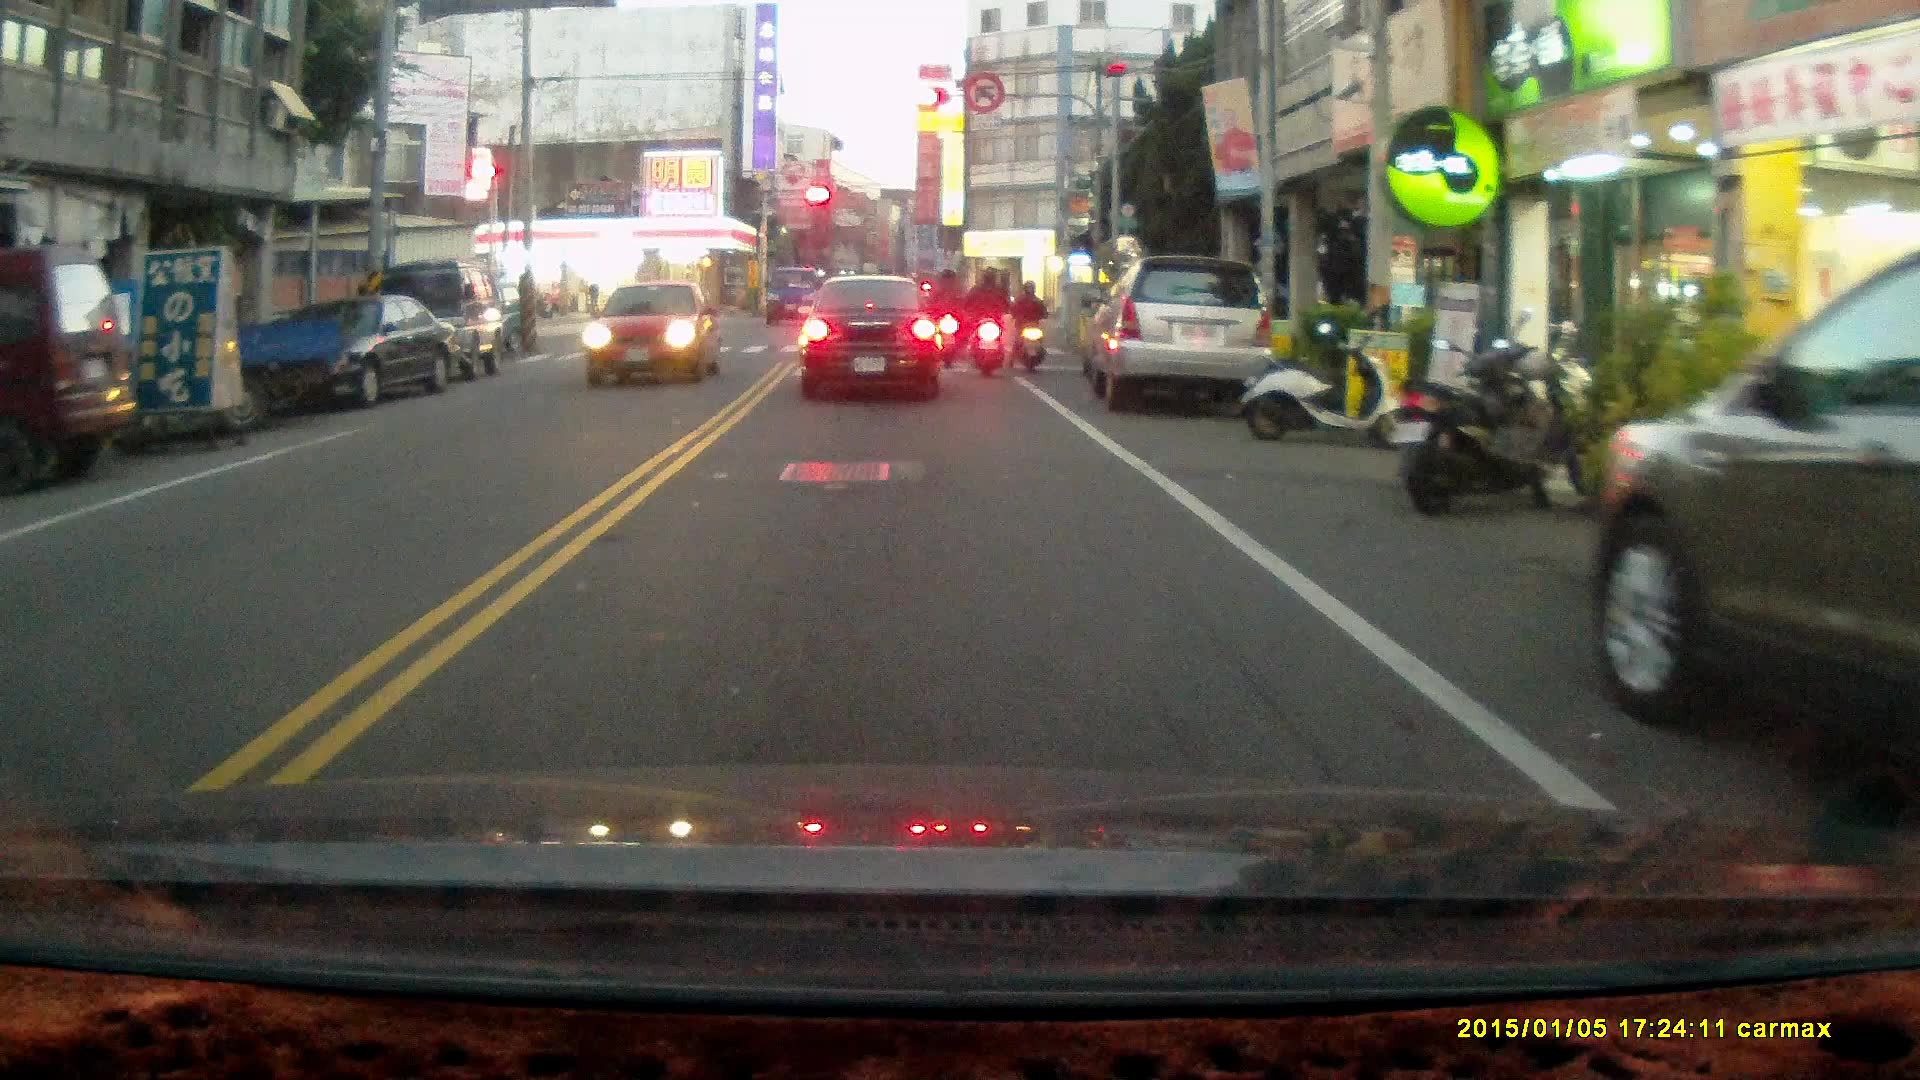rider: (961, 268, 1012, 381), (927, 268, 965, 370), (1010, 281, 1049, 378)
vehicle: (1585, 237, 1920, 823), (1, 248, 143, 482), (1084, 255, 1280, 422), (241, 293, 463, 410), (799, 273, 943, 405), (367, 257, 511, 388), (582, 281, 717, 389)
